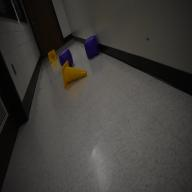cone: (61, 60, 87, 88), (48, 50, 58, 63)
cube: (84, 35, 100, 59), (59, 49, 73, 67)
